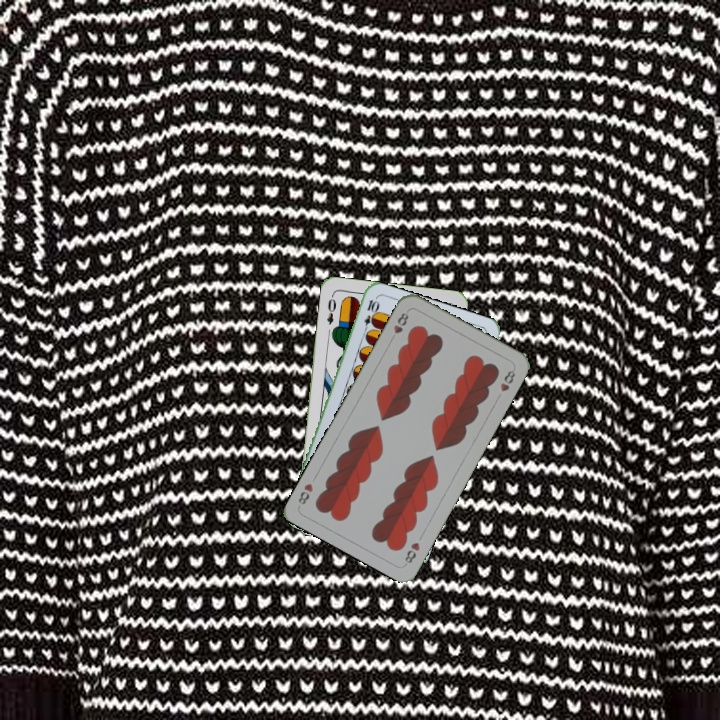E10: (360, 296, 380, 336)
EO: (323, 291, 338, 327)
H8: (389, 307, 411, 337), (401, 538, 423, 567)
